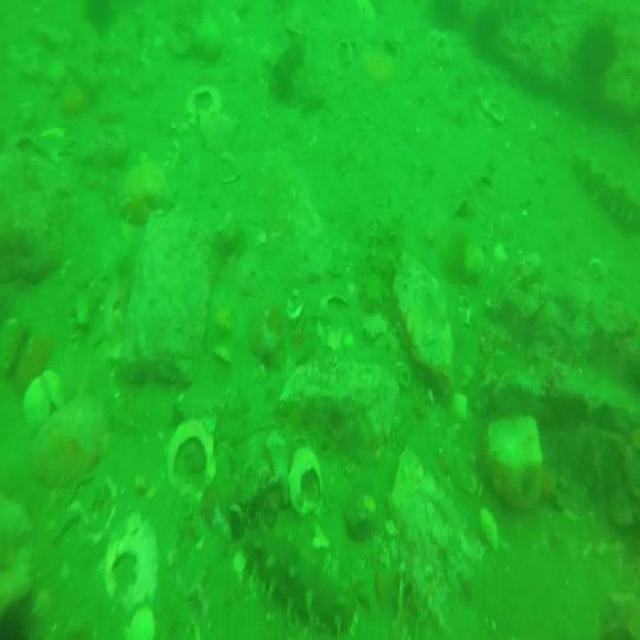holothurian: (245, 521, 359, 640), (573, 147, 640, 234), (362, 202, 403, 313), (274, 35, 324, 107)
scallop: (20, 370, 70, 428), (121, 603, 153, 640)
